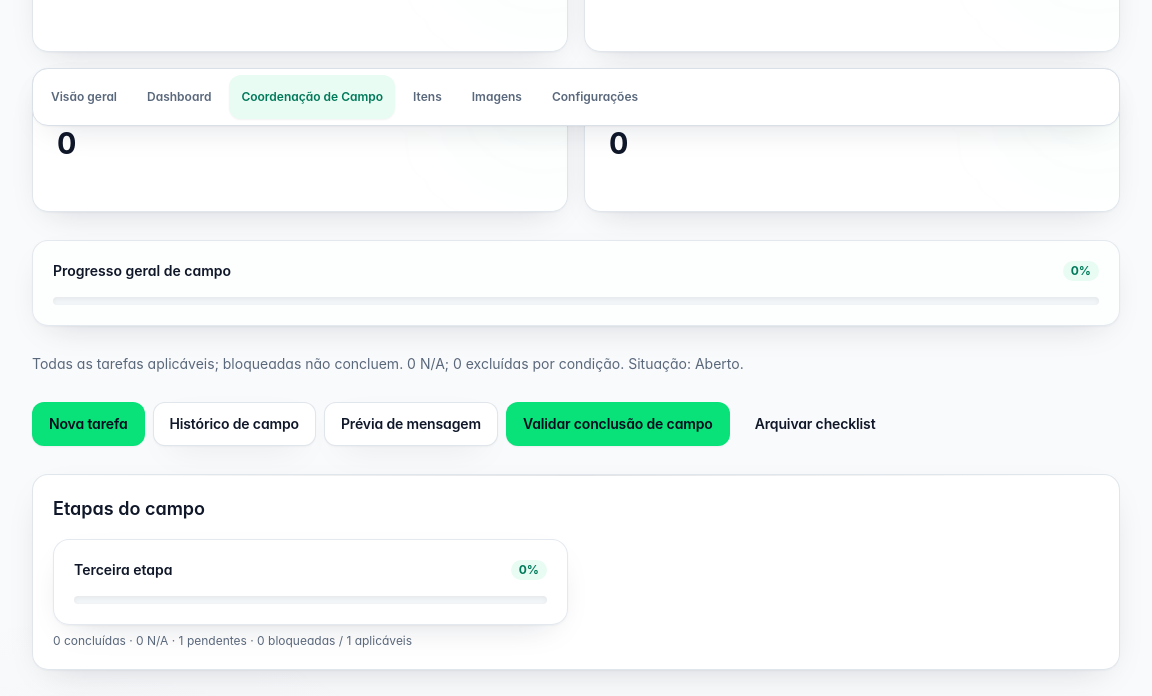
Test case: Field coordination UI › shows structured mandatory blockers and disables completion instead of assuming the first two groups are done
This screenshot has width=1152, height=696.
(page scrolled)
Click the button "Validar conclusão de campo".
click(618, 424)  # box [506,402,730,446]
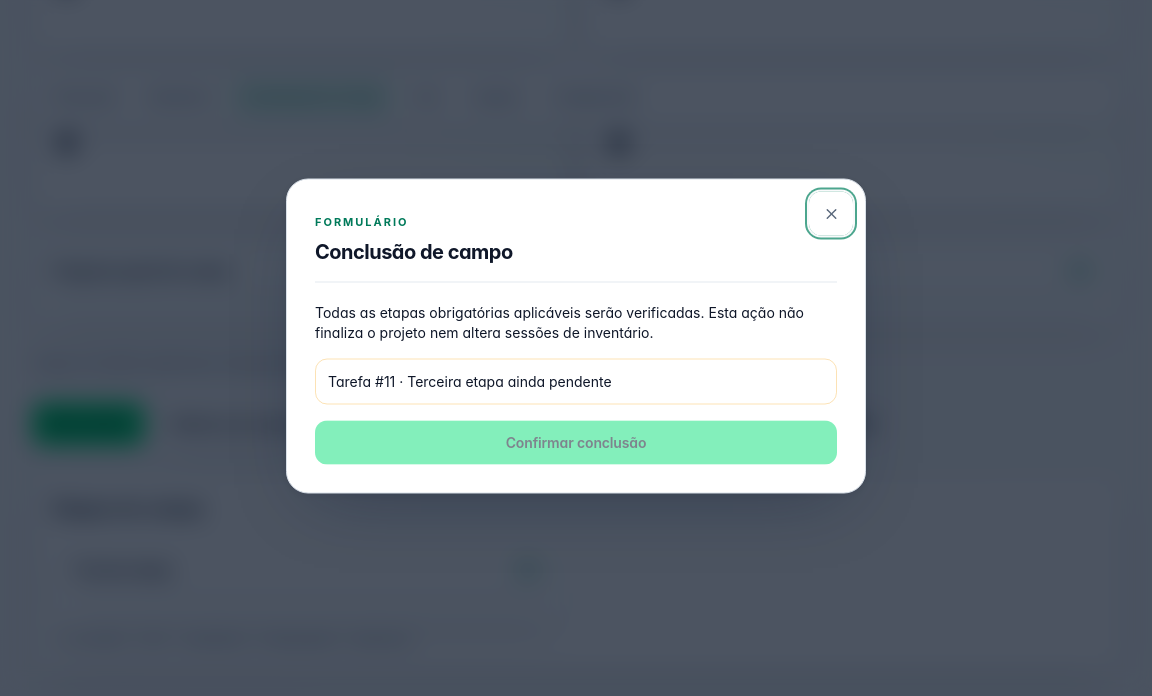
Now the list item "Tarefa #11 · Terceira etapa ainda pendente" is shown, box [328,372,612,390]
Now the button "Confirmar conclusão" is disabled, box [315,420,837,464]
